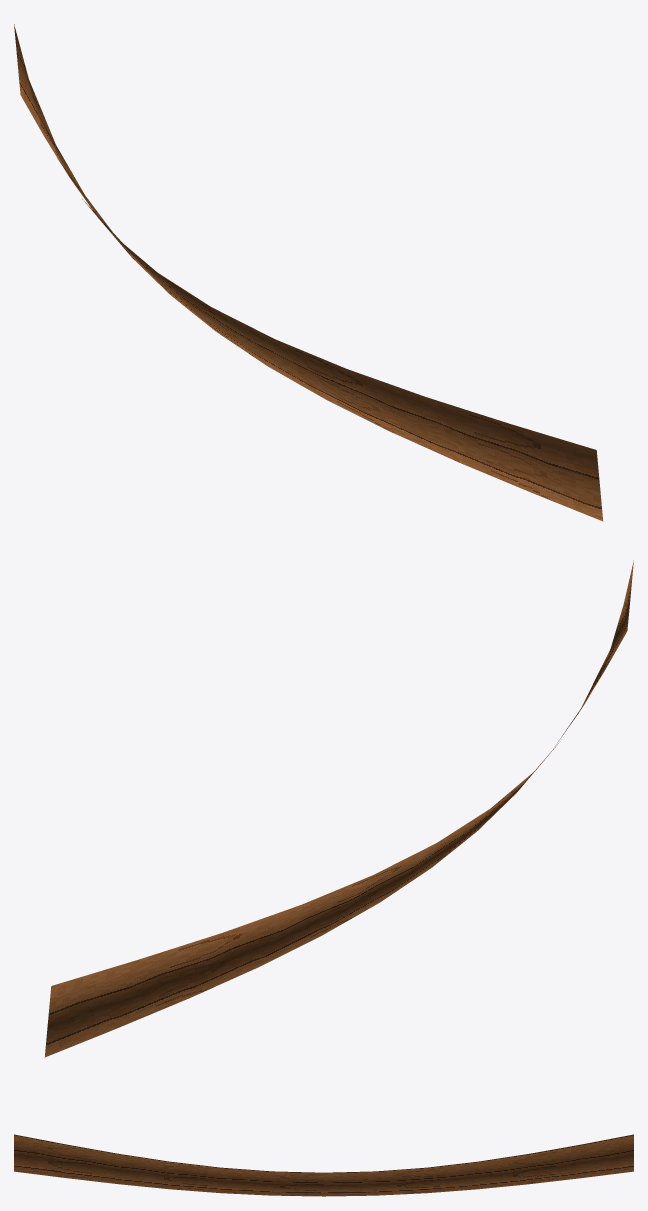
Rendered from champa_atrato.glb.
3 renders of one model, top to bottom at view 1: azimuth 30°, elevation 25°; view 2: azimuth 150°, elevation 25°; view 3: azimuth 270°, elevation 25°, orthographic. The views are drawn at different scales.
Visible parts, largest first — view 1: champa_atrato; view 2: champa_atrato; view 3: champa_atrato.
Boxes of the visible parts, box(x1,y1,x2,y2) form: champa_atrato: box(14, 24, 603, 521); champa_atrato: box(44, 560, 633, 1057); champa_atrato: box(14, 1134, 633, 1196).
Bounding box in the file's own units: 2.14 × 0.45 × 6.5.
1 material, 1 textured.
